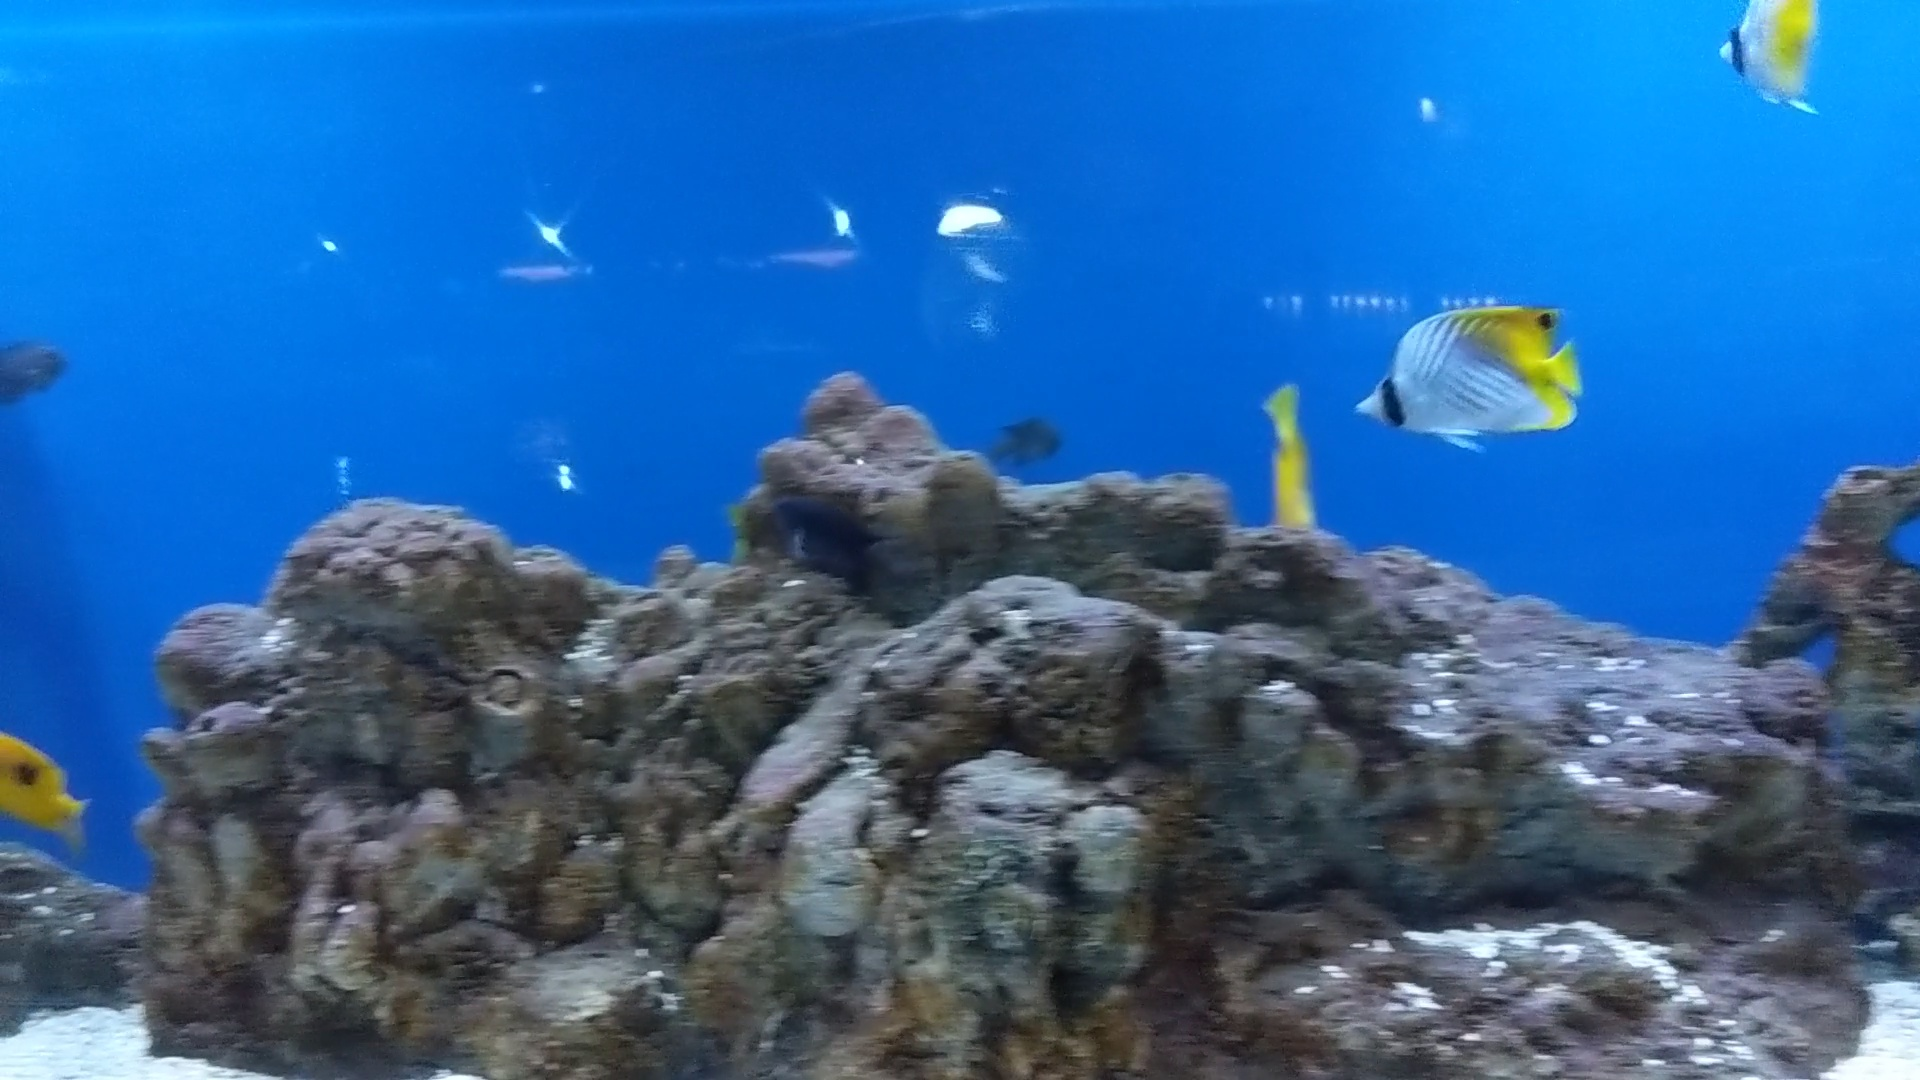butterflyfish: (1335, 301, 1578, 433), (1702, 0, 1799, 104)
